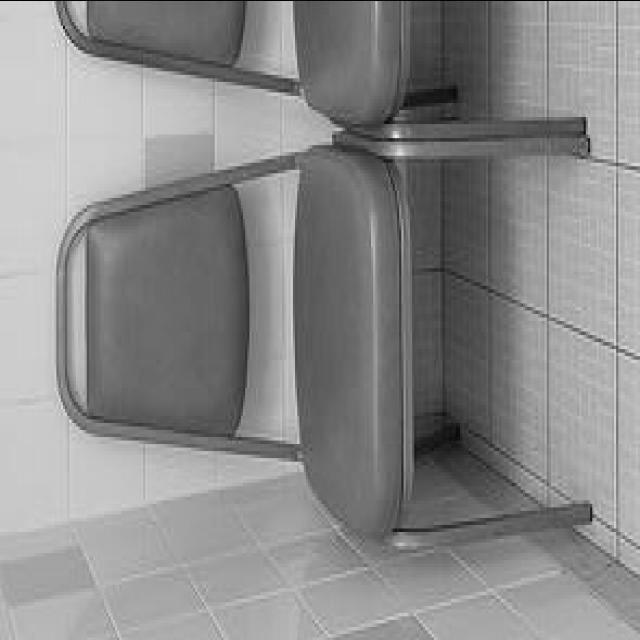chair: (54, 132, 598, 558)
